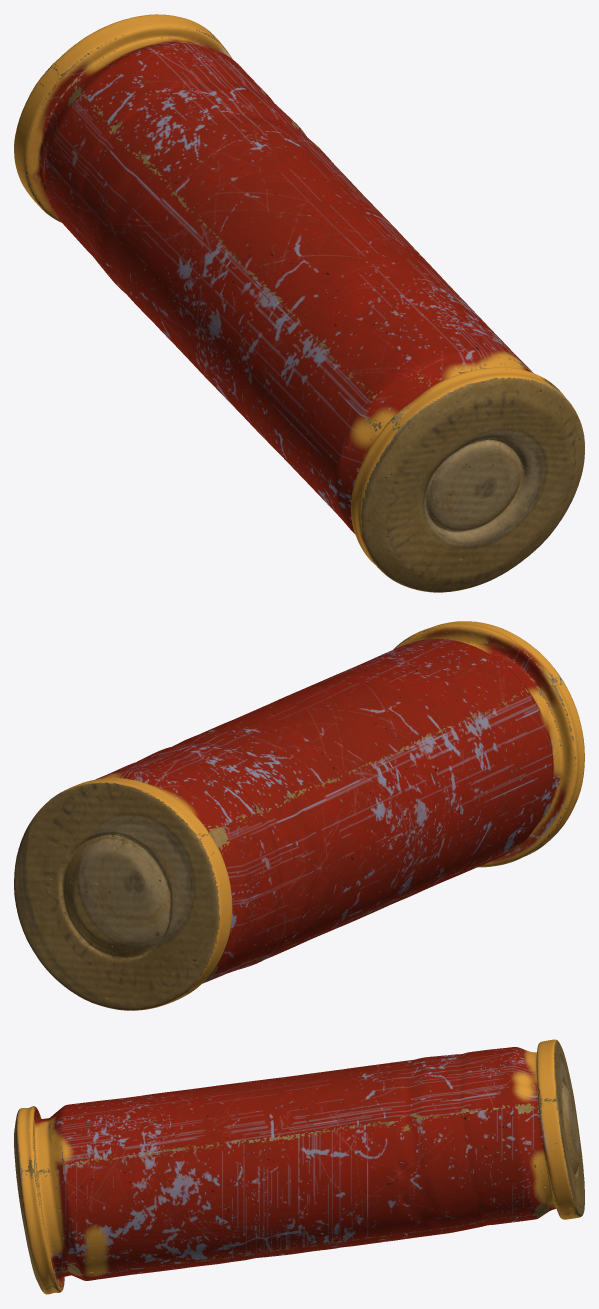
File: Shotgun_Shell.glb
3 renders of one model, top to bottom at view 1: azimuth 30°, elevation 25°; view 2: azimuth 150°, elevation 25°; view 3: azimuth 270°, elevation 25°, orthographic. The views are drawn at different scales.
Parts seen in each view (by area): view 1: Shotgun Shell; view 2: Shotgun Shell; view 3: Shotgun Shell.
Part boxes in pixels (x1=…): Shotgun Shell: x1=14, y1=14, x2=584, y2=592; Shotgun Shell: x1=14, y1=621, x2=584, y2=1010; Shotgun Shell: x1=14, y1=1039, x2=584, y2=1294.
Bounding box in the file's own units: 0.6834 × 0.9281 × 2.
2 materials, 2 textured.
